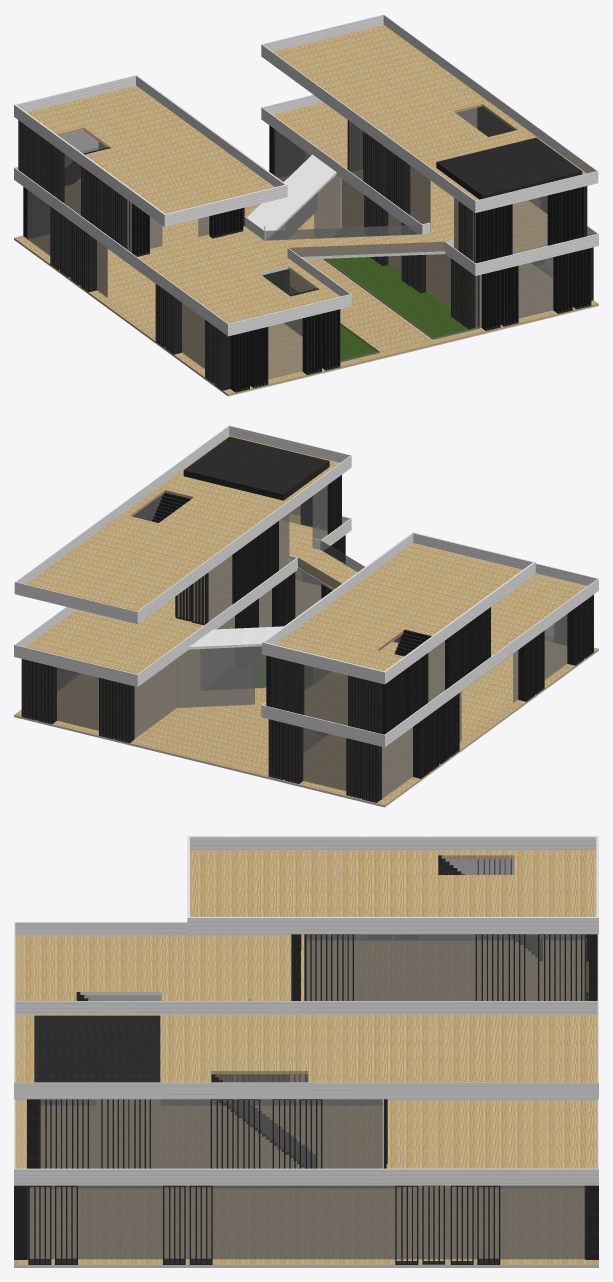
3 renders of one model, top to bottom at view 1: azimuth 30°, elevation 25°; view 2: azimuth 150°, elevation 25°; view 3: azimuth 270°, elevation 25°, orthographic. The views are drawn at different scales.
Visible parts, largest first — view 1: G-No_Name_766, G-No_Name_851, G-No_Name_778, G-No_Name_856, G-No_Name_847, G-No_Name_786, G-No_Name_788, G-No_Name_831, G-No_Name_836, G-No_Name_817, G-No_Name_846, G-No_Name_826 (+27 smaller); view 2: G-No_Name_766, G-No_Name_798, G-No_Name_782, G-No_Name_832, G-No_Name_779, G-No_Name_815, G-No_Name_833, G-No_Name_777, G-No_Name_787, G-No_Name_783, G-No_Name_794, G-No_Name_774 (+26 smaller); view 3: G-No_Name_766, G-No_Name_827, G-No_Name_815, G-No_Name_851, G-No_Name_816, G-No_Name_828, G-No_Name_823, G-No_Name_858, G-No_Name_771, G-No_Name_850, G-No_Name_800, G-No_Name_835 (+18 smaller).
Boxes of the visible parts, x1,y1,x2,y2 form: G-No_Name_766: [14, 14, 598, 396]; G-No_Name_851: [572, 248, 591, 309]; G-No_Name_778: [553, 252, 572, 313]; G-No_Name_856: [230, 331, 249, 392]; G-No_Name_847: [302, 313, 321, 374]; G-No_Name_786: [481, 270, 500, 330]; G-No_Name_788: [322, 309, 340, 370]; G-No_Name_831: [250, 327, 268, 388]; G-No_Name_836: [500, 265, 518, 326]; G-No_Name_817: [475, 208, 494, 263]; G-No_Name_846: [547, 191, 566, 245]; G-No_Name_826: [214, 327, 230, 390]; G-No_Name_766: [14, 425, 598, 807]; G-No_Name_798: [37, 663, 56, 724]; G-No_Name_782: [115, 681, 134, 743]; G-No_Name_832: [284, 723, 303, 783]; G-No_Name_779: [362, 742, 380, 802]; G-No_Name_815: [21, 659, 37, 720]; G-No_Name_833: [268, 719, 284, 779]; G-No_Name_777: [286, 660, 304, 714]; G-No_Name_787: [413, 715, 429, 778]; G-No_Name_783: [518, 638, 534, 701]; G-No_Name_794: [567, 602, 583, 665]; G-No_Name_774: [99, 678, 114, 739]; G-No_Name_766: [14, 836, 598, 1267]; G-No_Name_827: [211, 1074, 315, 1168]; G-No_Name_815: [586, 1185, 598, 1259]; G-No_Name_851: [14, 1185, 26, 1259]; G-No_Name_816: [189, 1185, 212, 1264]; G-No_Name_828: [477, 1185, 500, 1264]; G-No_Name_823: [55, 1185, 77, 1264]; G-No_Name_858: [163, 1185, 185, 1264]; G-No_Name_771: [28, 1185, 51, 1264]; G-No_Name_850: [450, 1185, 473, 1264]; G-No_Name_800: [422, 1185, 444, 1264]; G-No_Name_835: [27, 1099, 38, 1168].
Size of what is drawn, in the model's own units: 48 by 16.71 by 48.
Materials: 13 (10 with a texture image).
